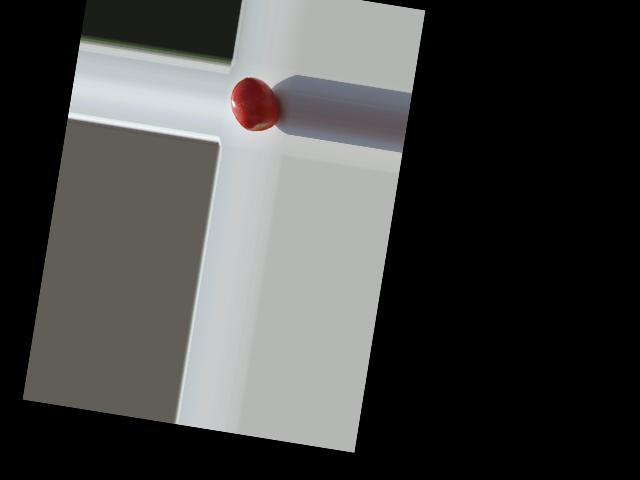tomato: (226, 74, 284, 134)
